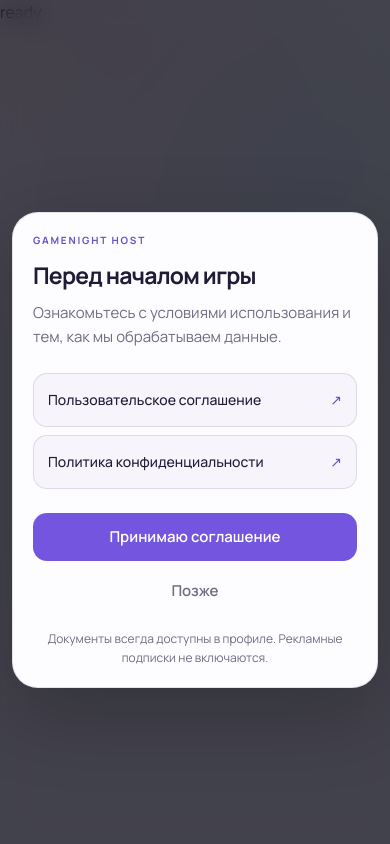
Test: first-use agreement › keeps the sheet open on a failed save and does not remember acceptance
The width and height of the screenshot is (390, 844).
What coordinates should you click on to do the following:
click the button "Принимаю соглашение"
I would click on:
 (195, 537)
Its box is top-left (33, 513), bottom-right (357, 561).
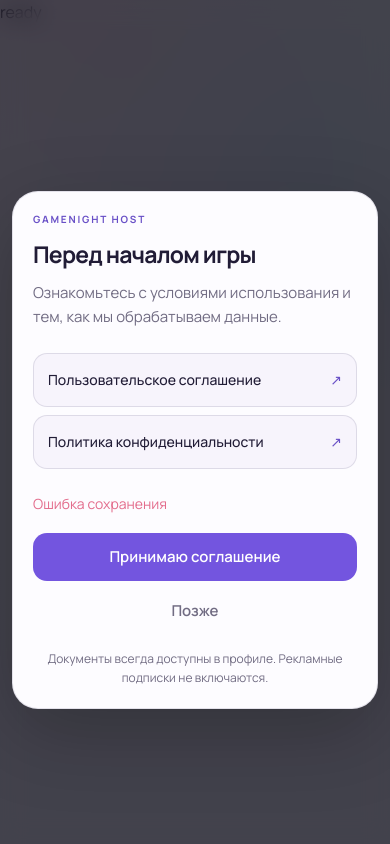
Result: the message "Ошибка сохранения" is shown at top-left (33, 494), bottom-right (167, 513)
